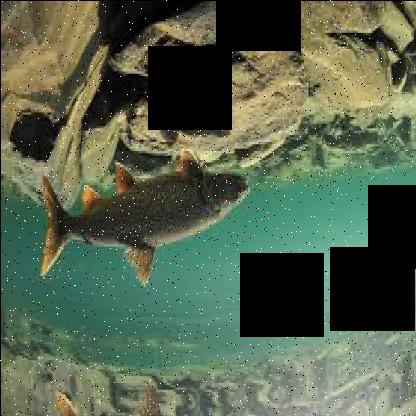fish: (36, 155, 252, 290)
